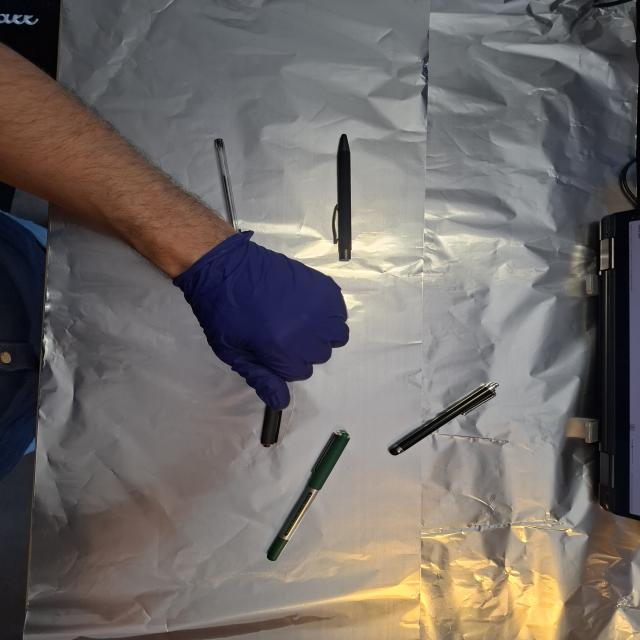glove_on: (172, 227, 352, 413)
